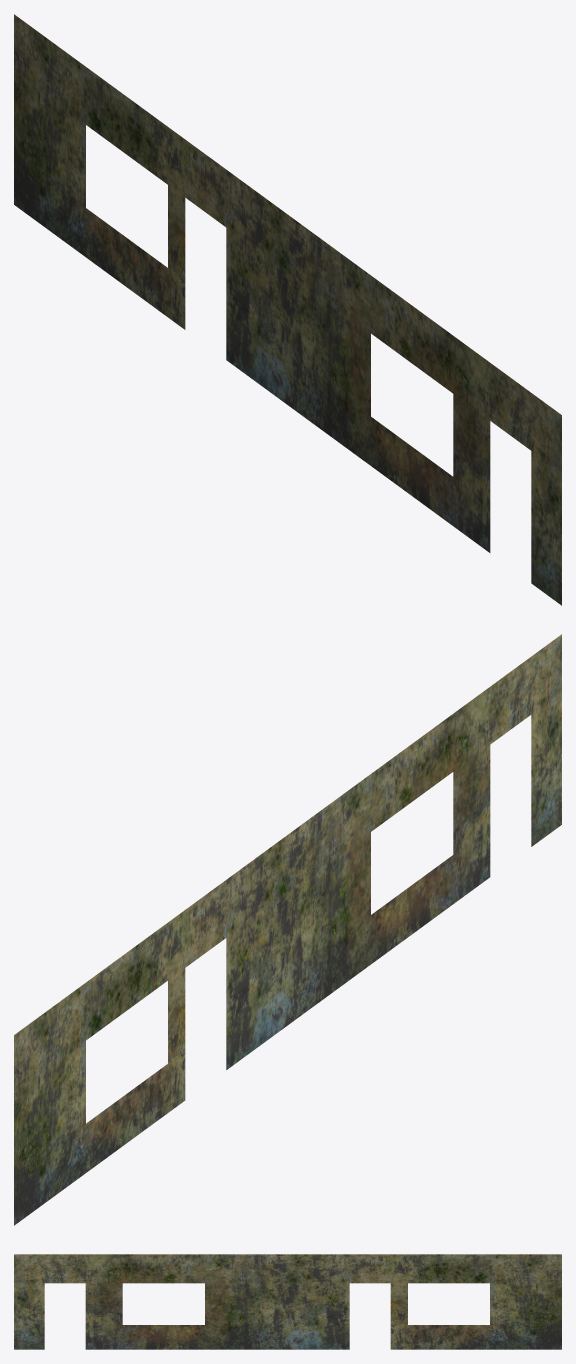
File: Wall_02.FBX
3 renders of one model, top to bottom at view 1: azimuth 30°, elevation 25°; view 2: azimuth 150°, elevation 25°; view 3: azimuth 270°, elevation 25°, orthographic. The views are drawn at different scales.
Visible parts, largest first — view 1: Wall_02; view 2: Wall_02; view 3: Wall_02.
Boxes of the visible parts, <box> form: Wall_02: <box>14,14,561,605</box>; Wall_02: <box>14,634,561,1225</box>; Wall_02: <box>14,1254,561,1349</box>.
Bounding box in the file's own units: 0.011 × 320 × 1667.
